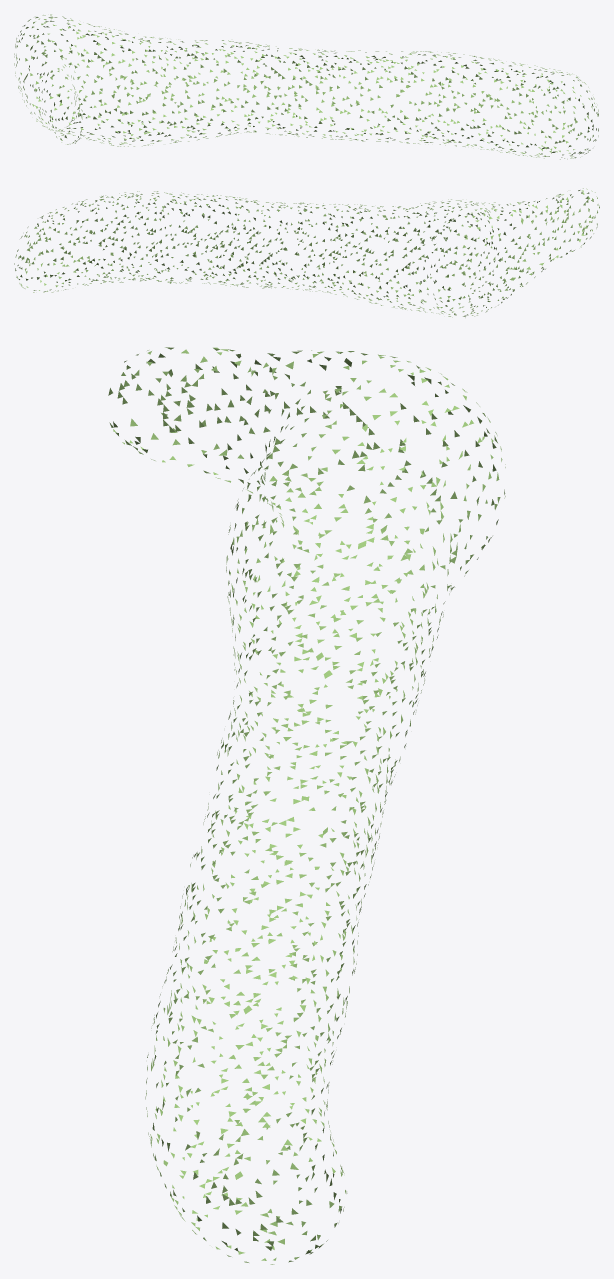
The model's file is morph_013.glb.
3 views of the same model, one above another, from view 1: azimuth 30°, elevation 25°; view 2: azimuth 150°, elevation 25°; view 3: azimuth 270°, elevation 25° (orthographic). The views are drawn at different scales.
Size of the model in its own units: 116 by 45.03 by 36.88.
